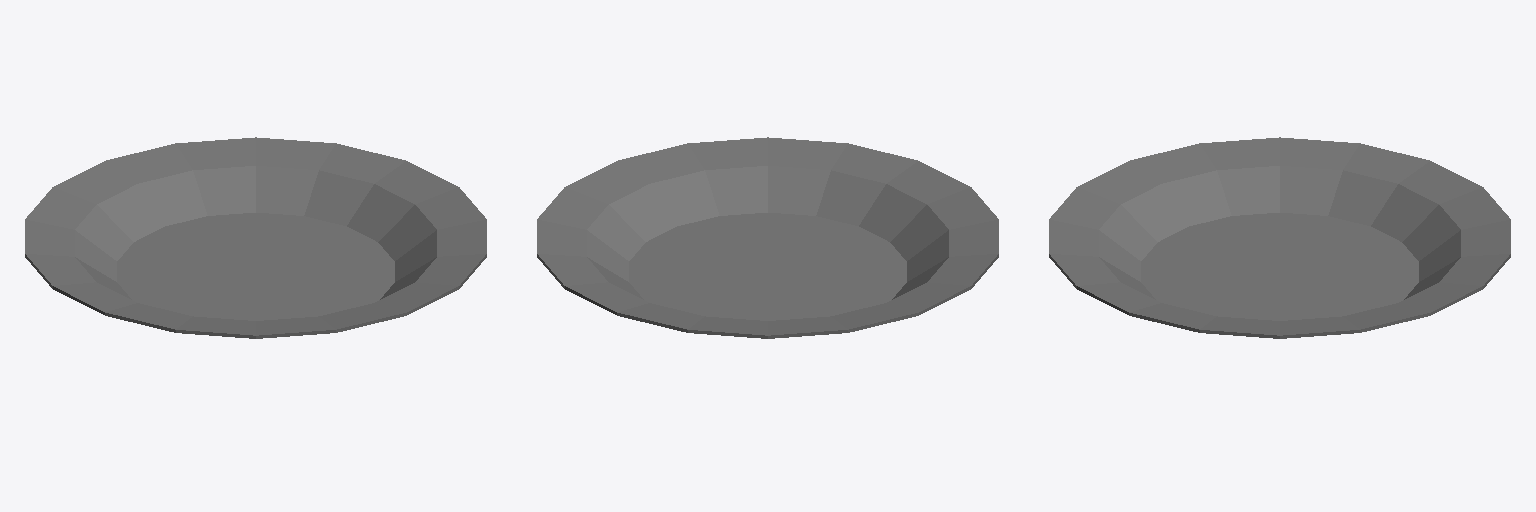
Rendered from Metal_Plate_OBJ.obj.
3 views of the same model, side by side, from view 1: azimuth 30°, elevation 25°; view 2: azimuth 150°, elevation 25°; view 3: azimuth 270°, elevation 25° (orthographic).
Visible parts, largest first — view 1: plate_low; view 2: plate_low; view 3: plate_low.
Boxes of the visible parts, box(x1,y1,x2,y2) form: plate_low: box(25, 137, 486, 338); plate_low: box(537, 137, 998, 338); plate_low: box(1049, 137, 1510, 338).
Size of the model in its own units: 43.45 by 3.97 by 42.79.